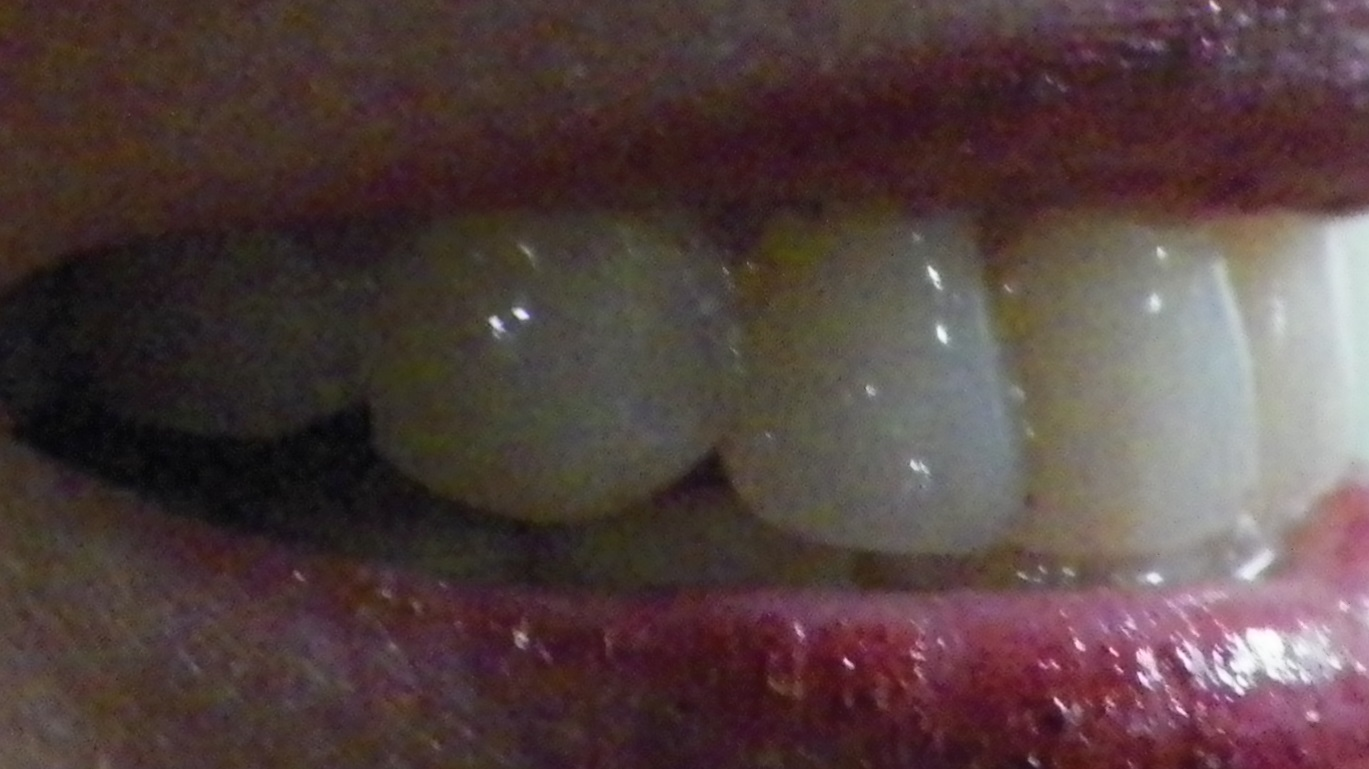boca: (131, 222, 1352, 577)
